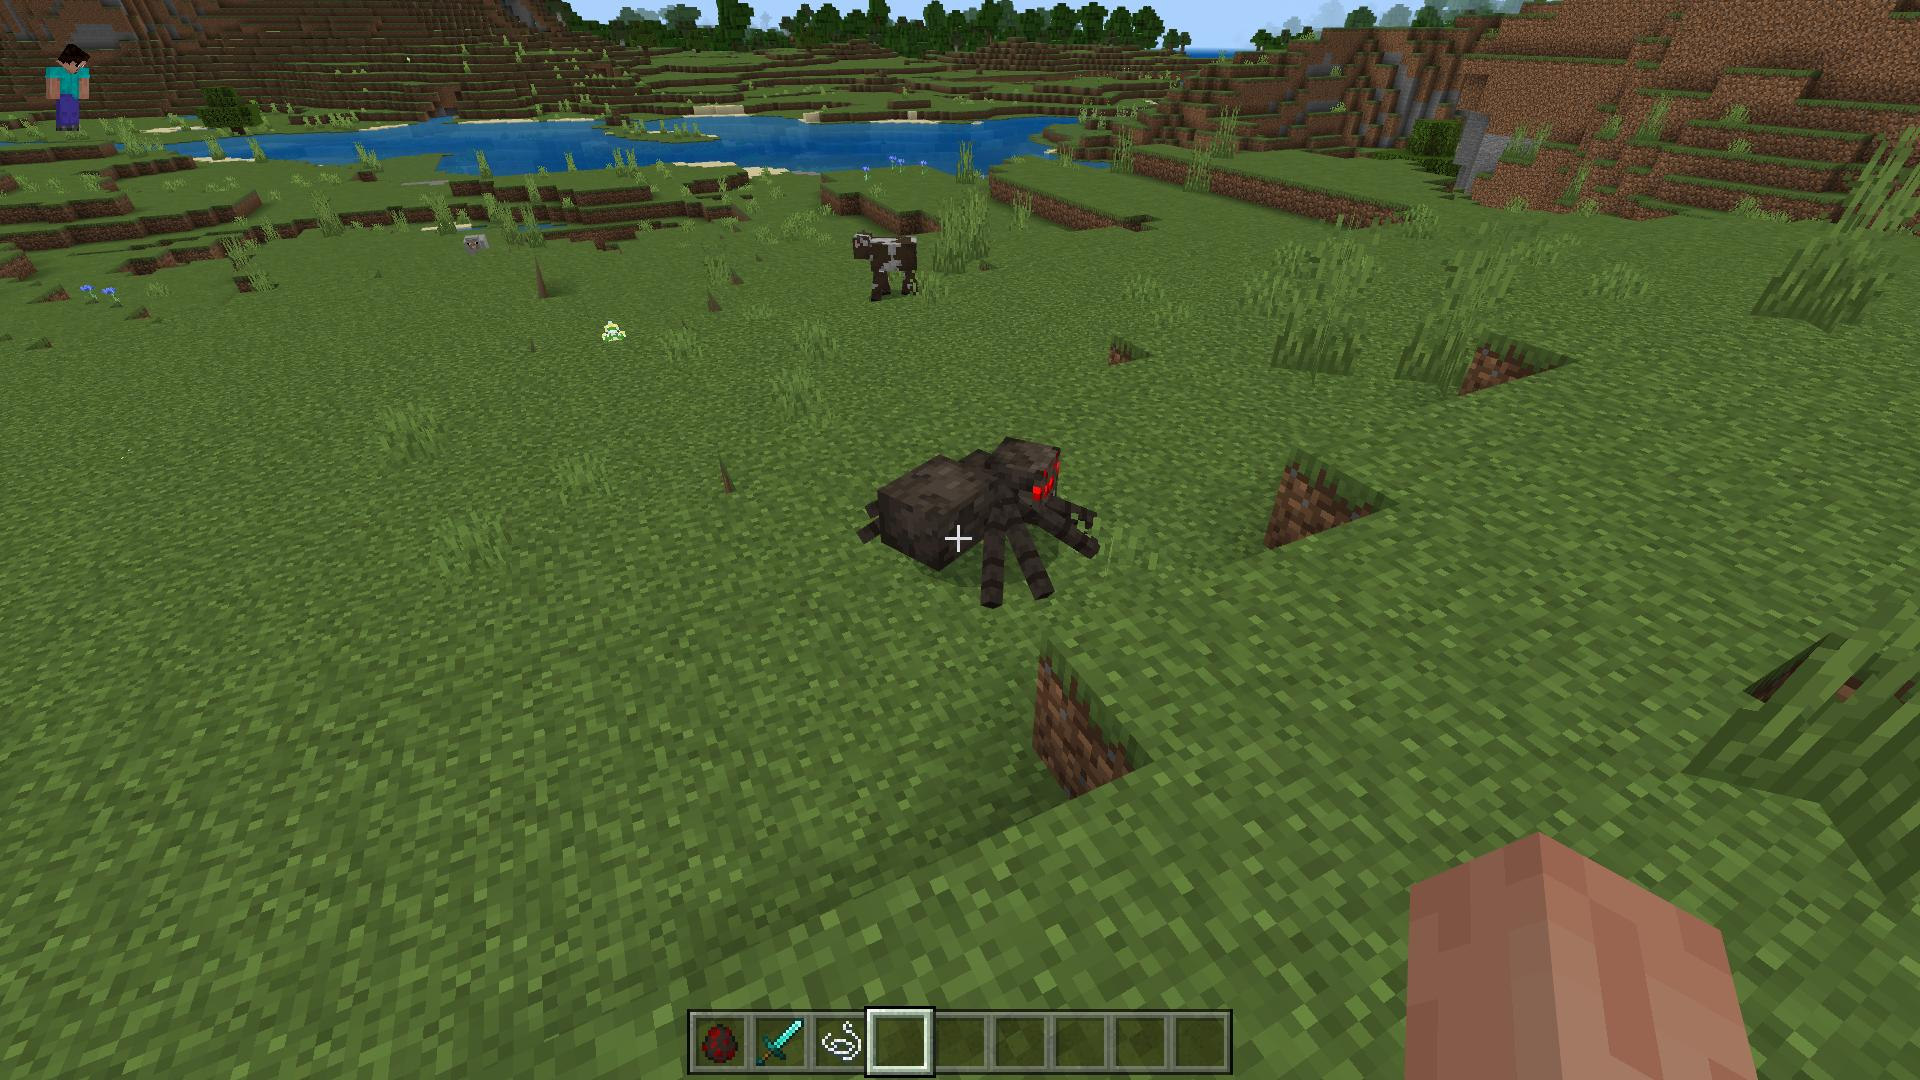spider: (858, 435, 1100, 611)
